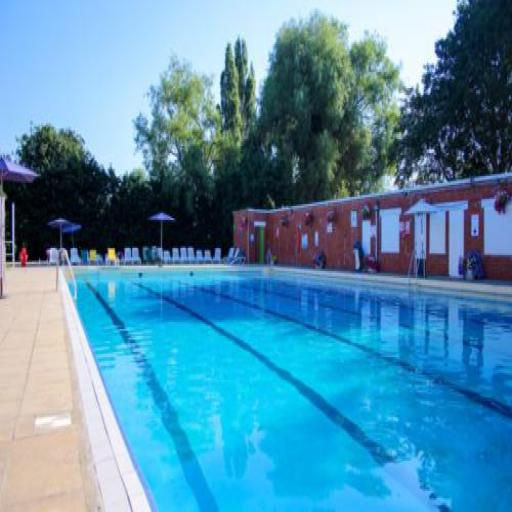swimming: (349, 234, 367, 276), (309, 244, 329, 274)
